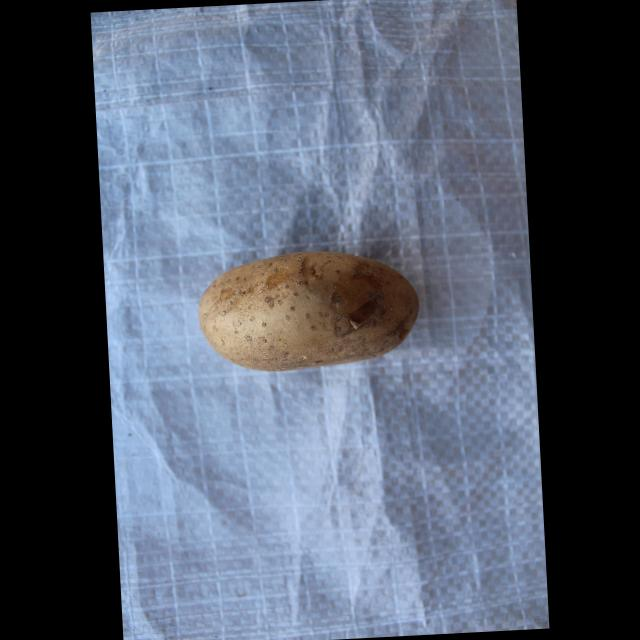Diseased-fungal potato: (191, 240, 426, 380)
